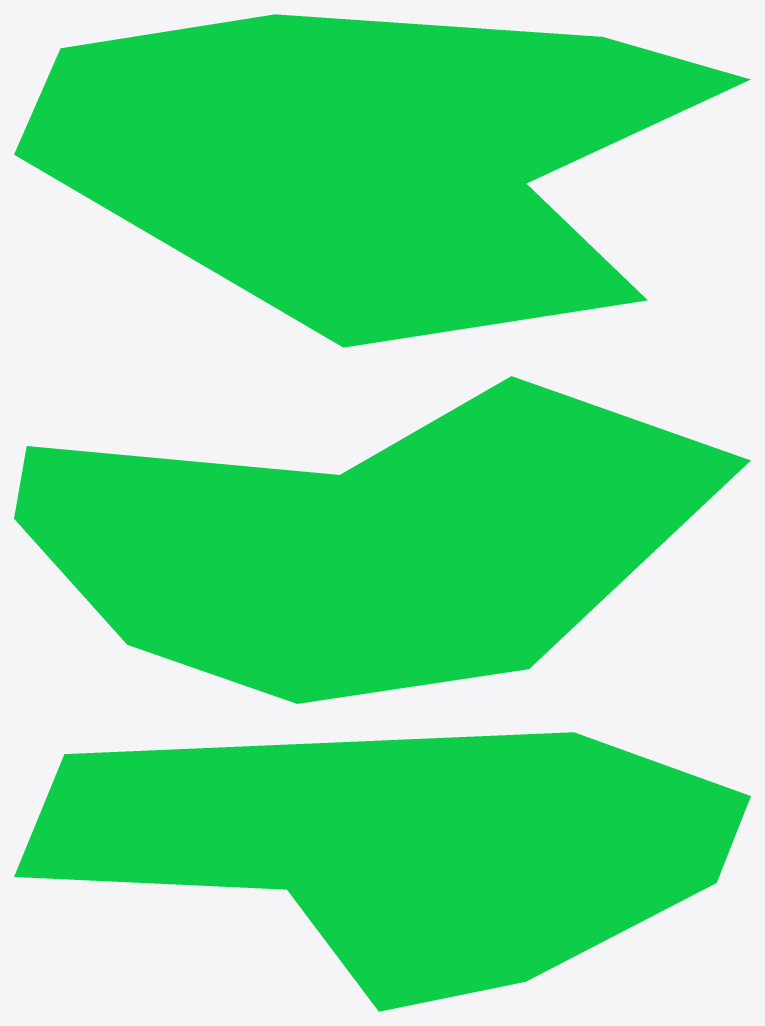
The model's file is Aquitaine.glb.
3 renders of one model, top to bottom at view 1: azimuth 30°, elevation 25°; view 2: azimuth 150°, elevation 25°; view 3: azimuth 270°, elevation 25°, orthographic. The views are drawn at different scales.
Visible parts, largest first — view 1: Aquitaine; view 2: Aquitaine; view 3: Aquitaine.
Part boxes in pixels (left/top/right/bottom): Aquitaine: left=14, top=14, right=750, bottom=347; Aquitaine: left=14, top=376, right=750, bottom=703; Aquitaine: left=14, top=732, right=750, bottom=1011.
Bounding box in the file's own units: 6.25 × 0 × 6.97.
